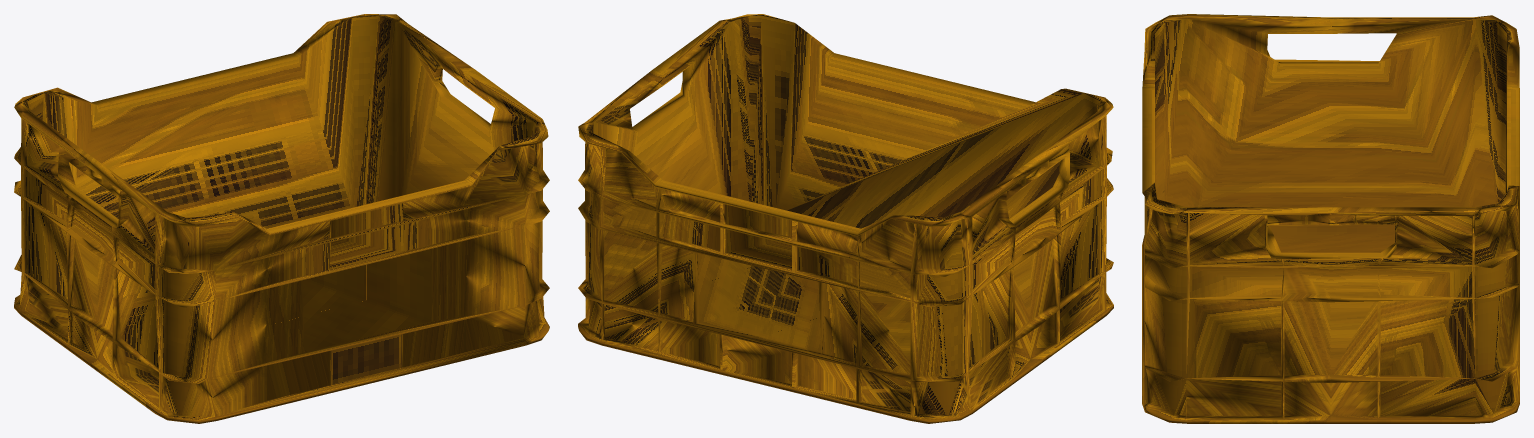
File: recycle_bin.glb
3 views of the same model, side by side, from view 1: azimuth 30°, elevation 25°; view 2: azimuth 150°, elevation 25°; view 3: azimuth 270°, elevation 25° (orthographic). The views are drawn at different scales.
Size of the model in its own units: 0.5055 by 0.2541 by 0.4055.
1 material, 1 textured.
